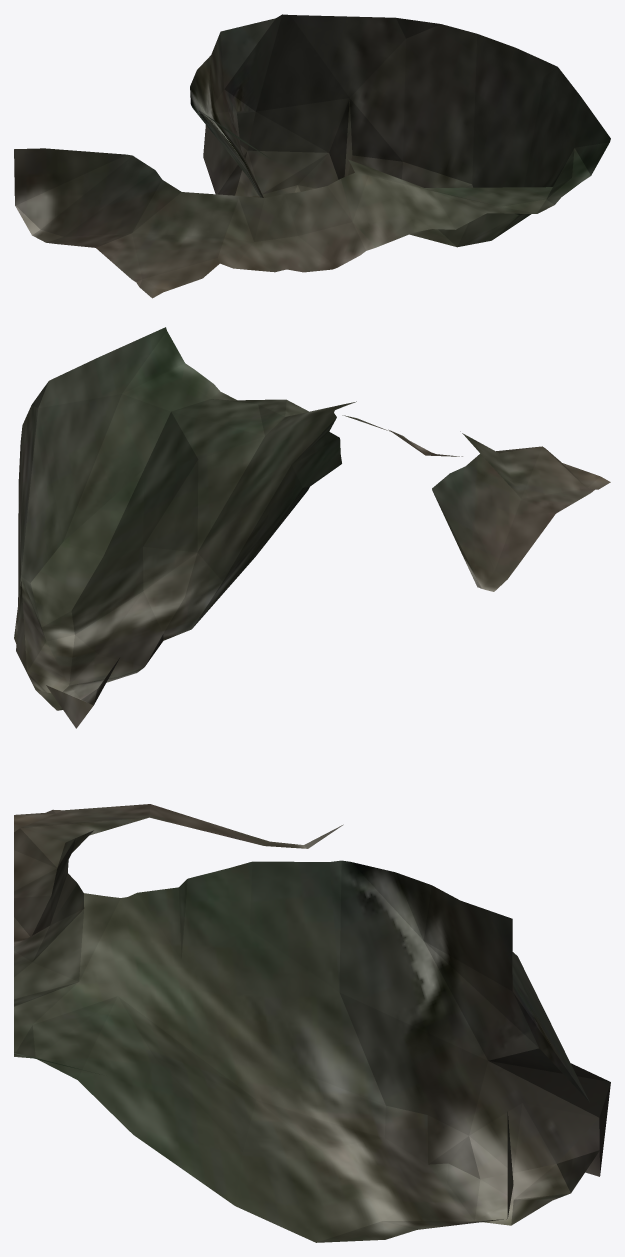
3 views of the same model, one above another, from view 1: azimuth 30°, elevation 25°; view 2: azimuth 150°, elevation 25°; view 3: azimuth 270°, elevation 25° (orthographic). The views are drawn at different scales.
Bounding box in the file's own units: 2.46 × 1.01 × 2.15.
Materials: 2 (2 with a texture image).
